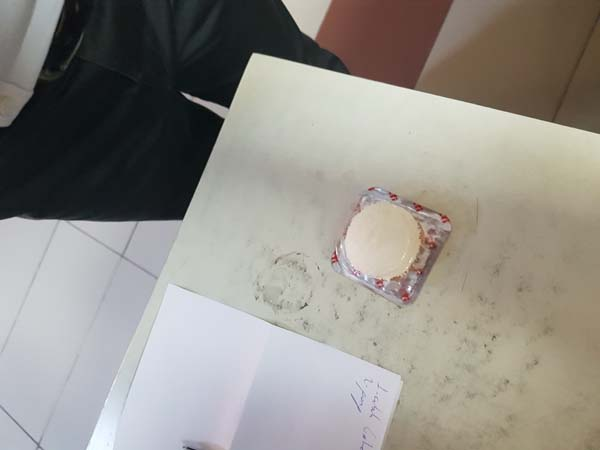etipuf: (330, 180, 457, 307)
